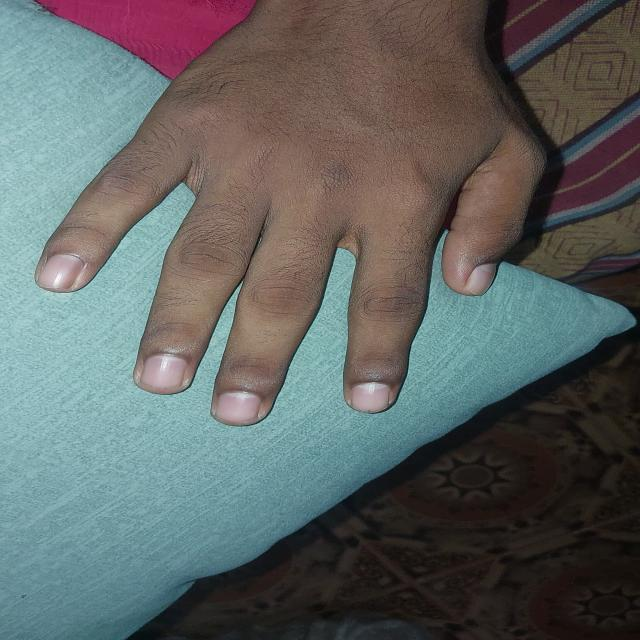nail: (36, 254, 97, 292), (139, 354, 195, 394), (211, 392, 269, 425), (344, 382, 397, 413), (466, 263, 496, 296)
